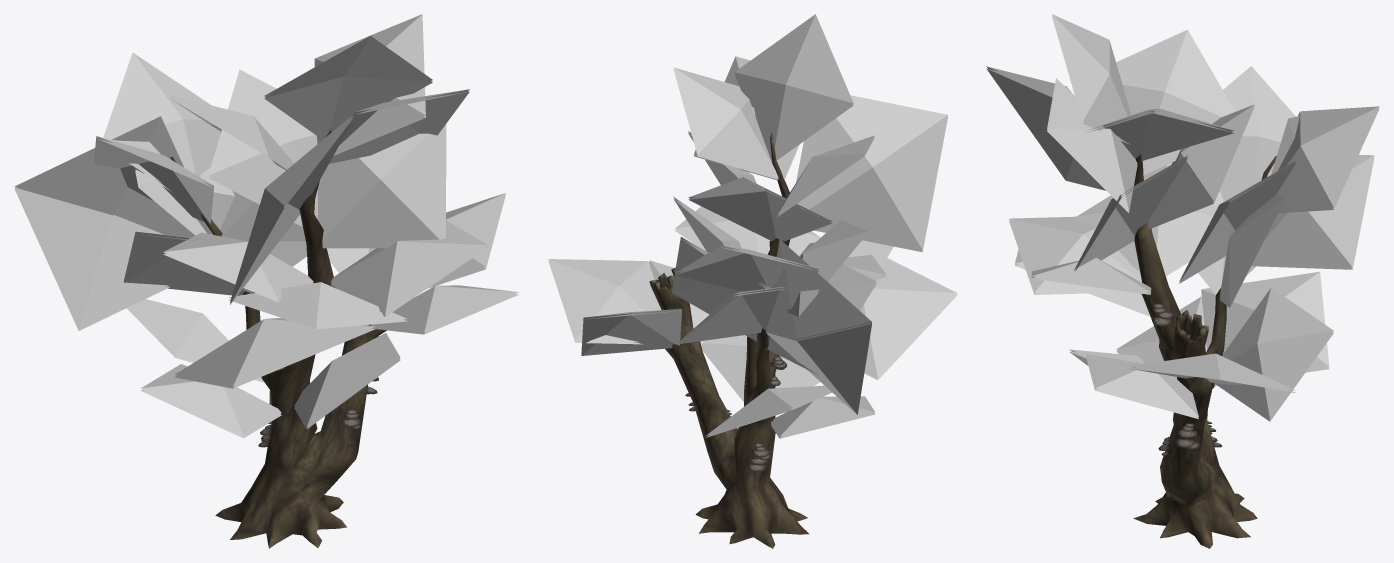
The model's file is SV_PLT_senlin_tree_3.FBX.
3 views of the same model, side by side, from view 1: azimuth 30°, elevation 25°; view 2: azimuth 150°, elevation 25°; view 3: azimuth 270°, elevation 25° (orthographic). The views are drawn at different scales.
Visible parts, largest first — view 1: SV_PLT_senlin_tree_3_leaf, SV_PLT_senglin_tree_3_trunk; view 2: SV_PLT_senlin_tree_3_leaf, SV_PLT_senglin_tree_3_trunk; view 3: SV_PLT_senlin_tree_3_leaf, SV_PLT_senglin_tree_3_trunk.
Part boxes in pixels (box(x1,y1,x2,y2)): SV_PLT_senlin_tree_3_leaf: box(14, 14, 518, 438); SV_PLT_senglin_tree_3_trunk: box(170, 129, 386, 548); SV_PLT_senlin_tree_3_leaf: box(548, 14, 957, 438); SV_PLT_senglin_tree_3_trunk: box(649, 133, 809, 548); SV_PLT_senlin_tree_3_leaf: box(986, 14, 1379, 421); SV_PLT_senglin_tree_3_trunk: box(1133, 154, 1276, 548).
Size of the model in its own units: 17.92 by 21.29 by 14.91.
